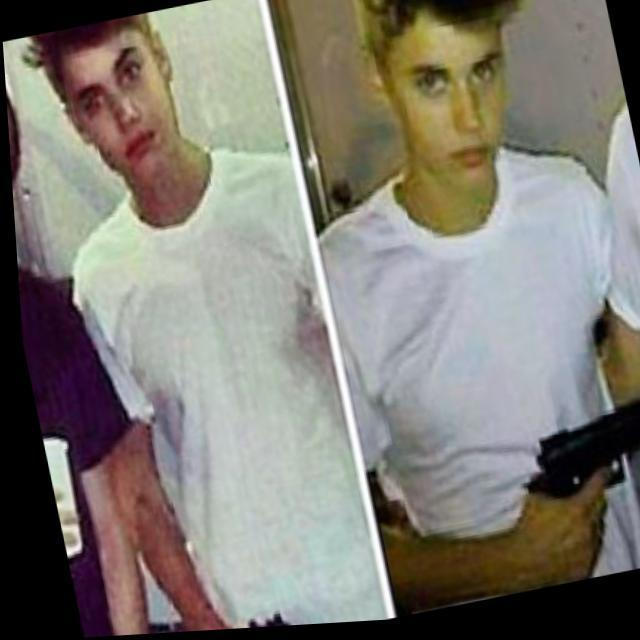weapon: (502, 380, 640, 594)
